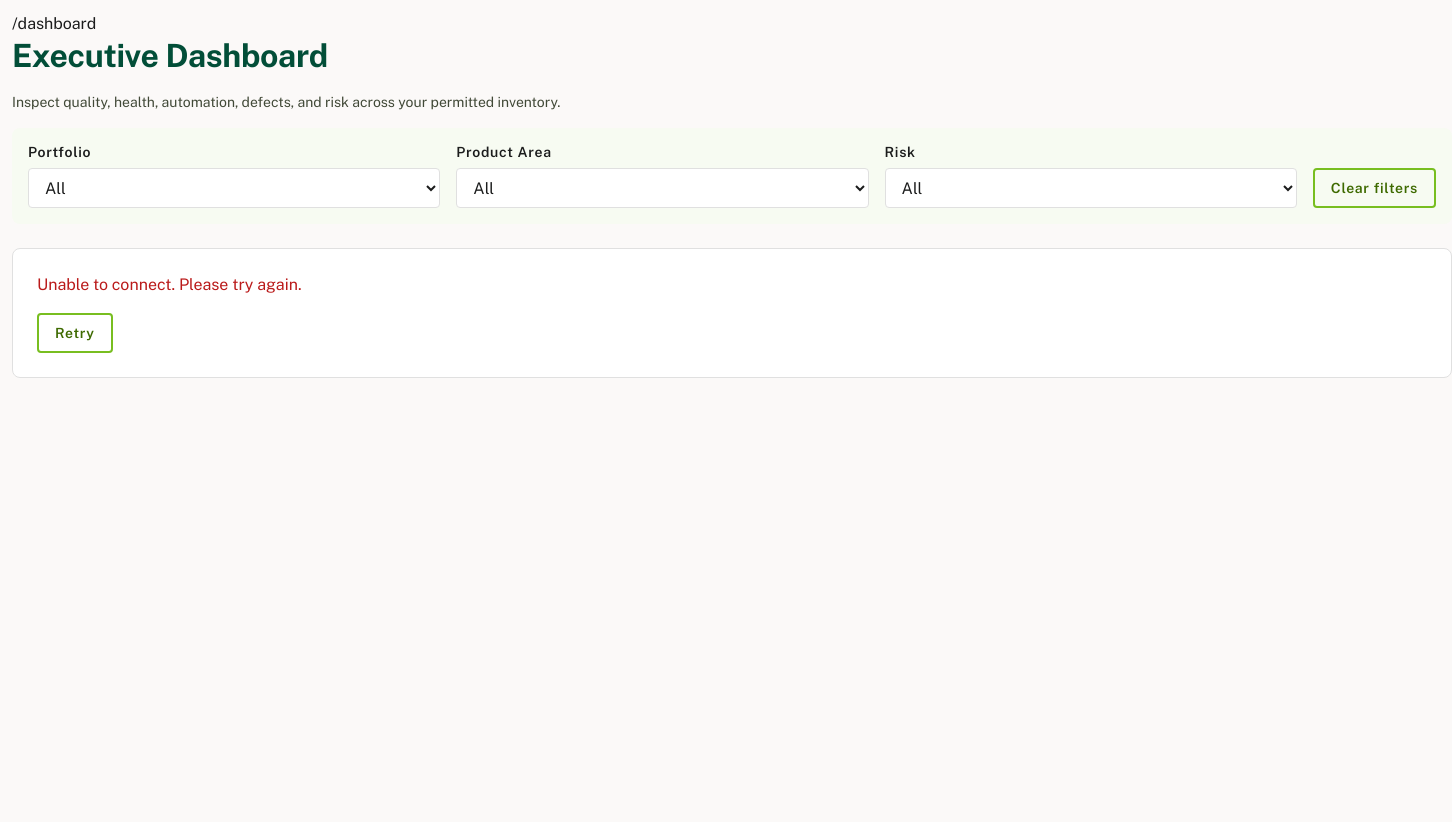
shows network failure and recovers with Retry
Expected: the message shows "Unable to connect.", [37,275,302,294]
Click the button "Retry" at (75, 333), box [37,313,113,353]
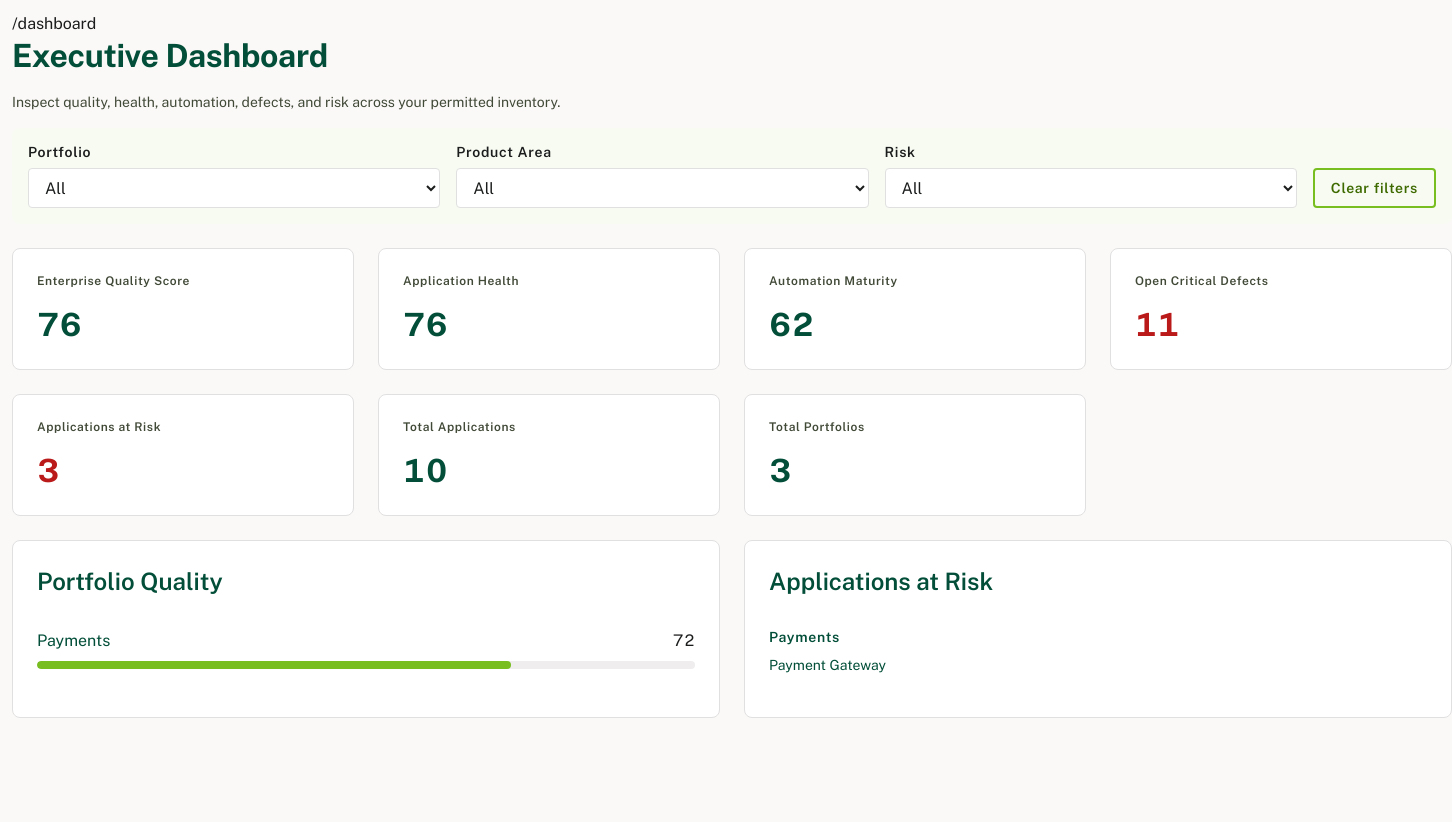
Now the element "Total Applications" is shown, box [378,394,720,516]
